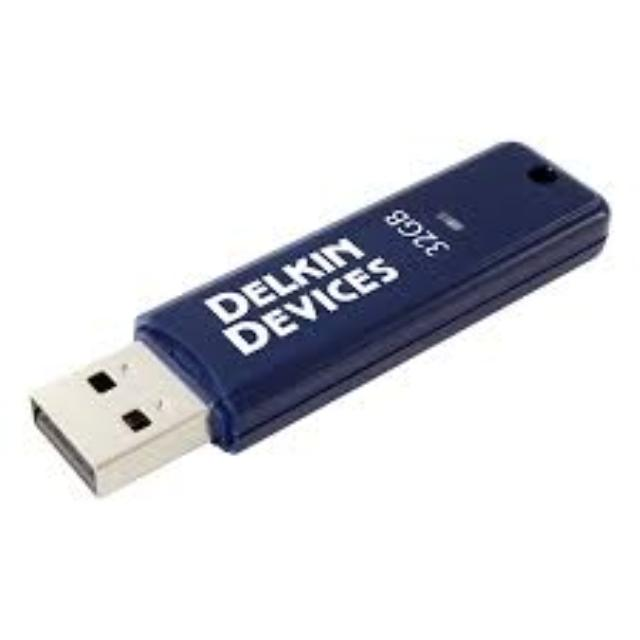USB-Flash-Drive: (31, 142, 612, 498)
